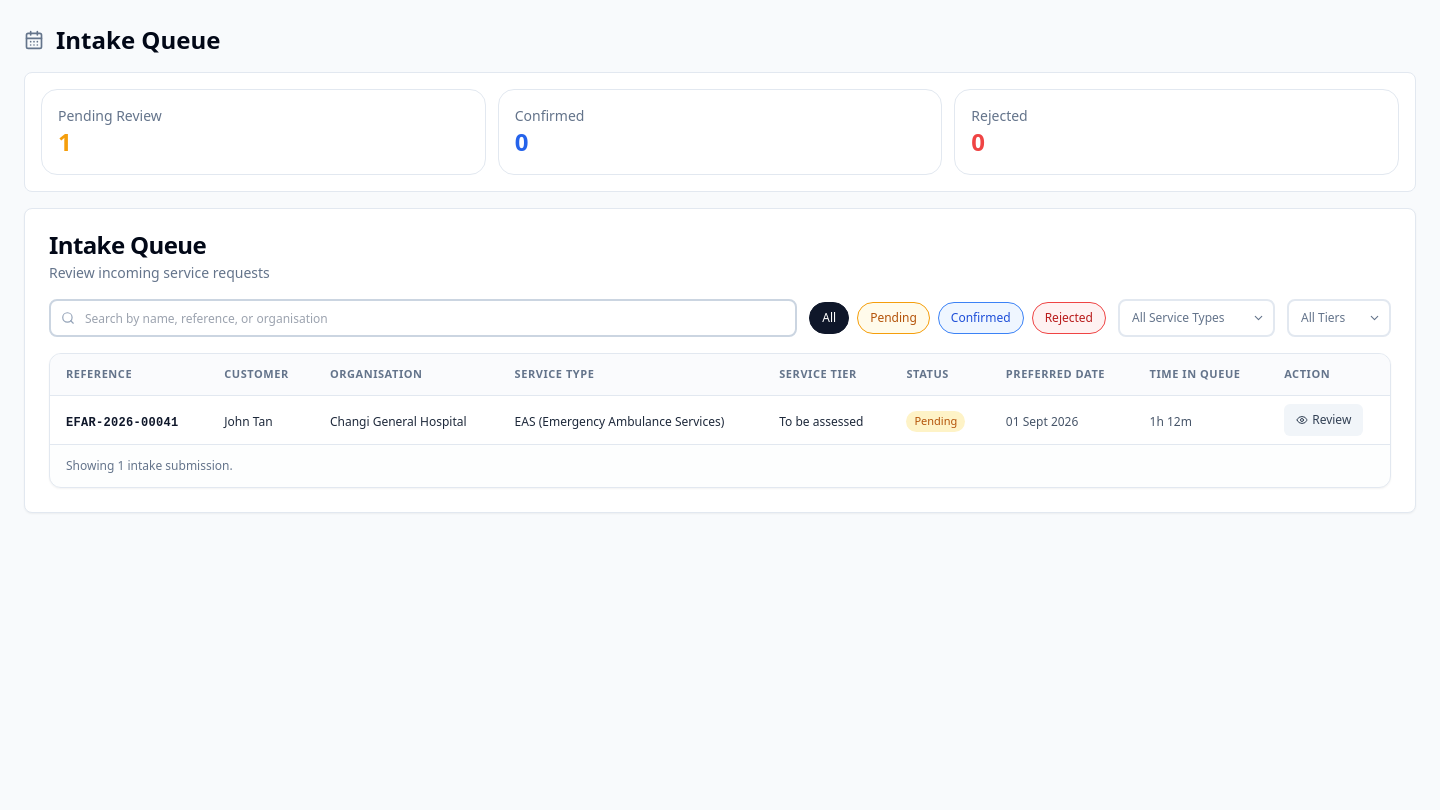
Test: IntakeQueuePage - search and filtering › a search term matching no submission shows the empty-state row
The width and height of the screenshot is (1440, 810).
Expected: the text "EFAR-2026-00041" is shown, [66,416,178,430]
Type "nonexistent-reference" into the field with placeholder "Search by name, reference, or organisation".
click(423, 318); type("nonexistent-reference")  # box [49,299,797,337]
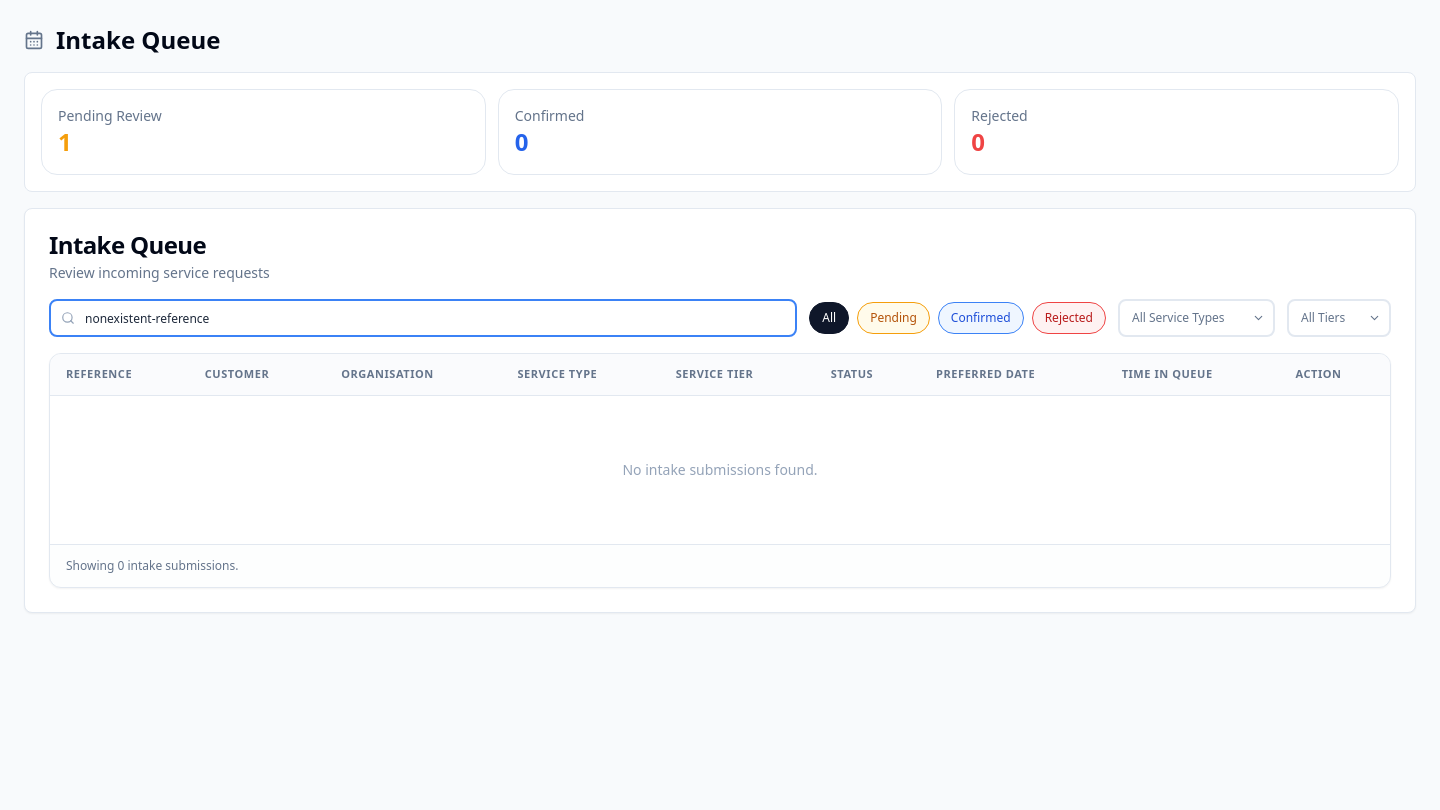
Now the text "No intake submissions found." is shown, box [50,395,1390,544]
